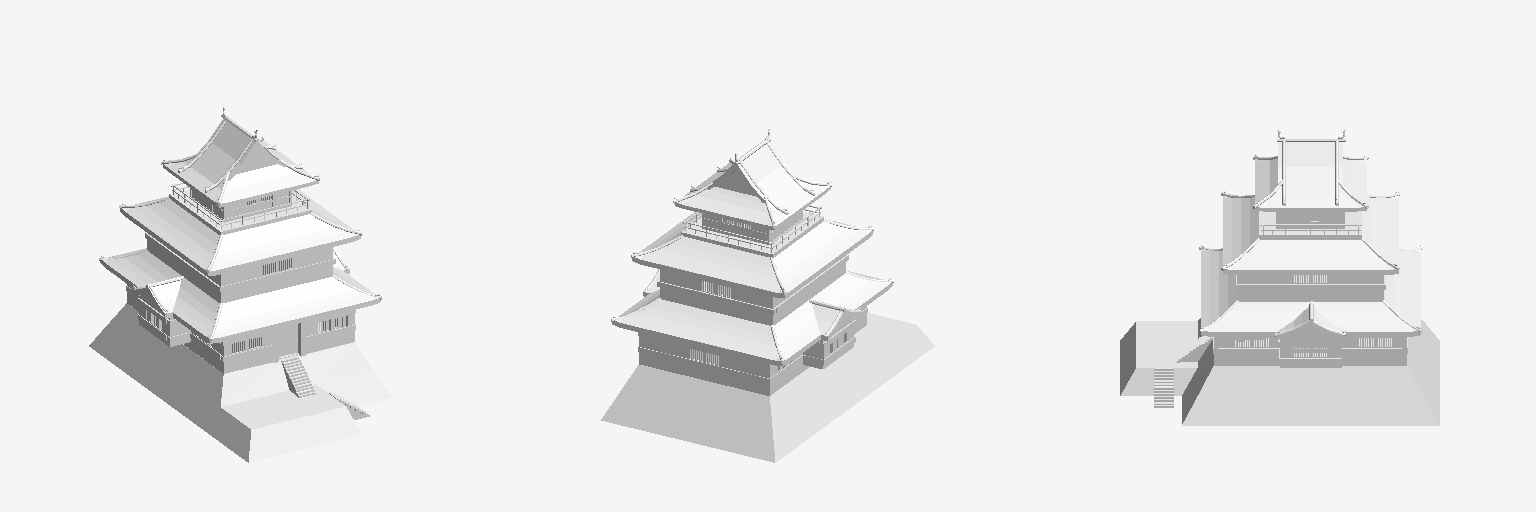
File: japcastle.obj
3 renders of one model, left to right at view 1: azimuth 30°, elevation 25°; view 2: azimuth 150°, elevation 25°; view 3: azimuth 270°, elevation 25°, orthographic.
Parts seen in each view (by area): view 1: Donjon, Base; view 2: Donjon, Base; view 3: Donjon, Base.
Part boxes in pixels (left/top/right/bottom): Donjon: left=99, top=104, right=381, bottom=373; Base: left=89, top=303, right=391, bottom=462; Donjon: left=611, top=128, right=893, bottom=395; Base: left=601, top=313, right=934, bottom=462; Donjon: left=1199, top=129, right=1422, bottom=367; Base: left=1120, top=318, right=1439, bottom=425.
Size of the model in its own units: 7.96 by 10.42 by 11.86.